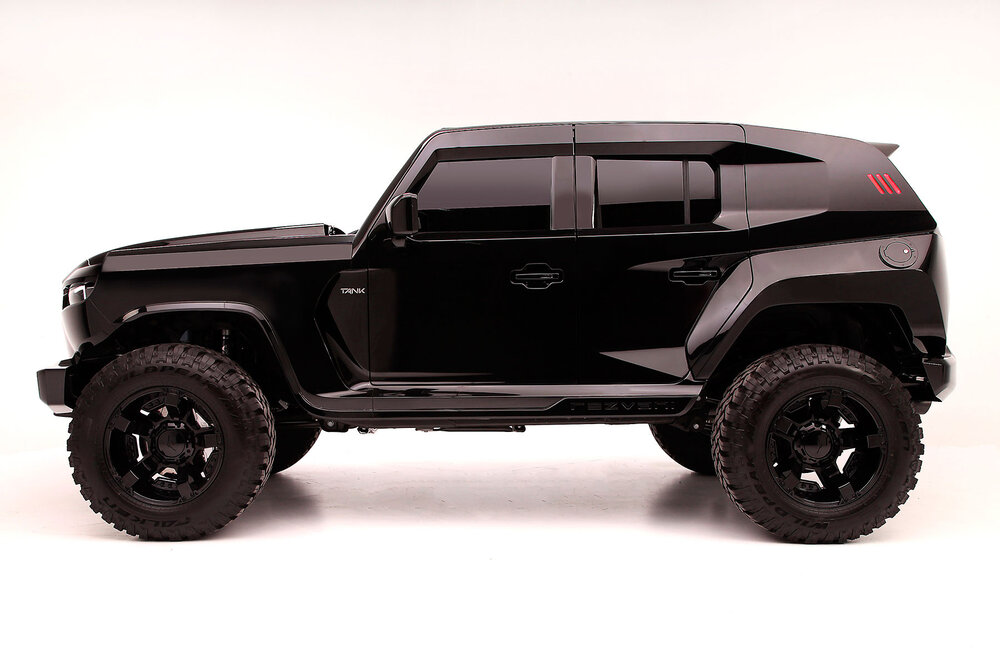nonacc: (19, 113, 968, 563)
